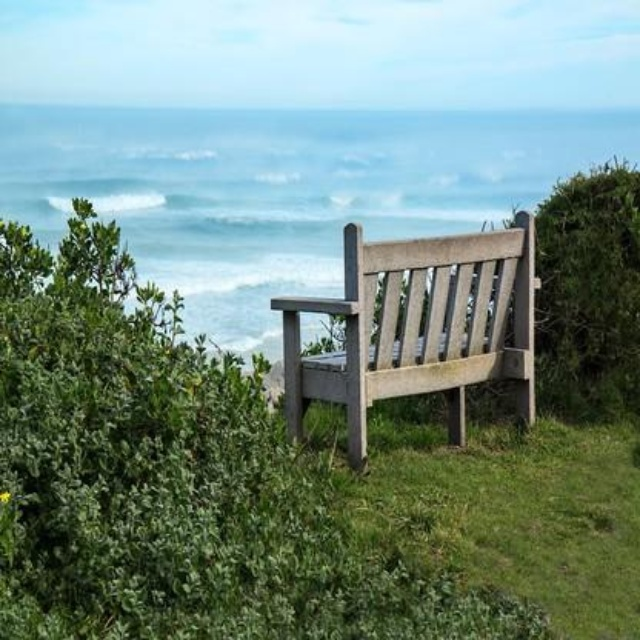obstacle: (258, 208, 558, 465)
